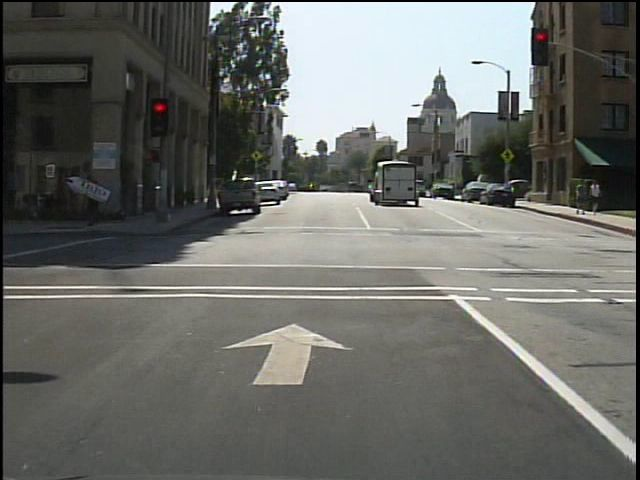person: (79, 170, 113, 234), (574, 179, 590, 220), (588, 179, 604, 218)
